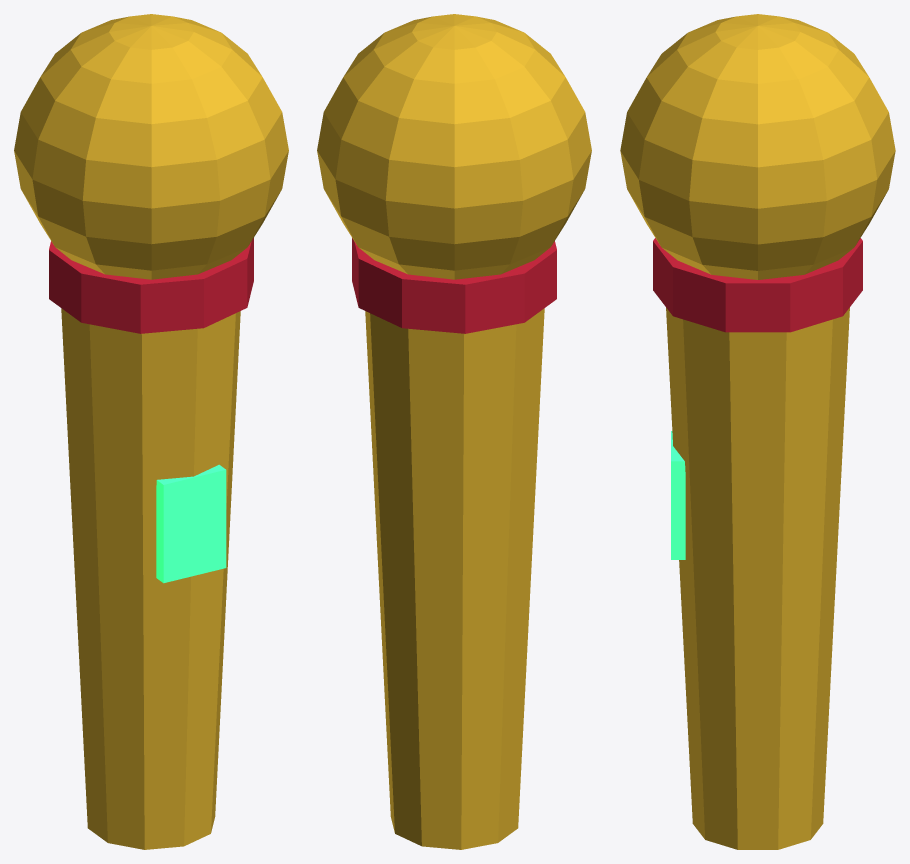
The model's file is karaoke_golden_mic.glb.
3 views of the same model, side by side, from view 1: azimuth 30°, elevation 25°; view 2: azimuth 150°, elevation 25°; view 3: azimuth 270°, elevation 25° (orthographic).
Parts seen in each view (by area): view 1: handle_golden_mic, head_golden_mic, ring_golden_mic_ruby, dial_golden_mic_dial; view 2: handle_golden_mic, head_golden_mic, ring_golden_mic_ruby; view 3: handle_golden_mic, head_golden_mic, ring_golden_mic_ruby, dial_golden_mic_dial.
Part boxes in pixels (left/top/right/bottom): handle_golden_mic: left=61, top=308, right=240, bottom=849; head_golden_mic: left=14, top=14, right=288, bottom=279; ring_golden_mic_ruby: left=49, top=238, right=253, bottom=333; dial_golden_mic_dial: left=156, top=464, right=226, bottom=583; handle_golden_mic: left=365, top=308, right=544, bottom=849; head_golden_mic: left=317, top=14, right=591, bottom=279; ring_golden_mic_ruby: left=352, top=238, right=556, bottom=333; handle_golden_mic: left=666, top=307, right=849, bottom=849; head_golden_mic: left=620, top=14, right=895, bottom=279; ring_golden_mic_ruby: left=653, top=238, right=862, bottom=332; dial_golden_mic_dial: left=671, top=431, right=685, bottom=559.
Bounding box in the file's own units: 0.076 × 0.243 × 0.076.
